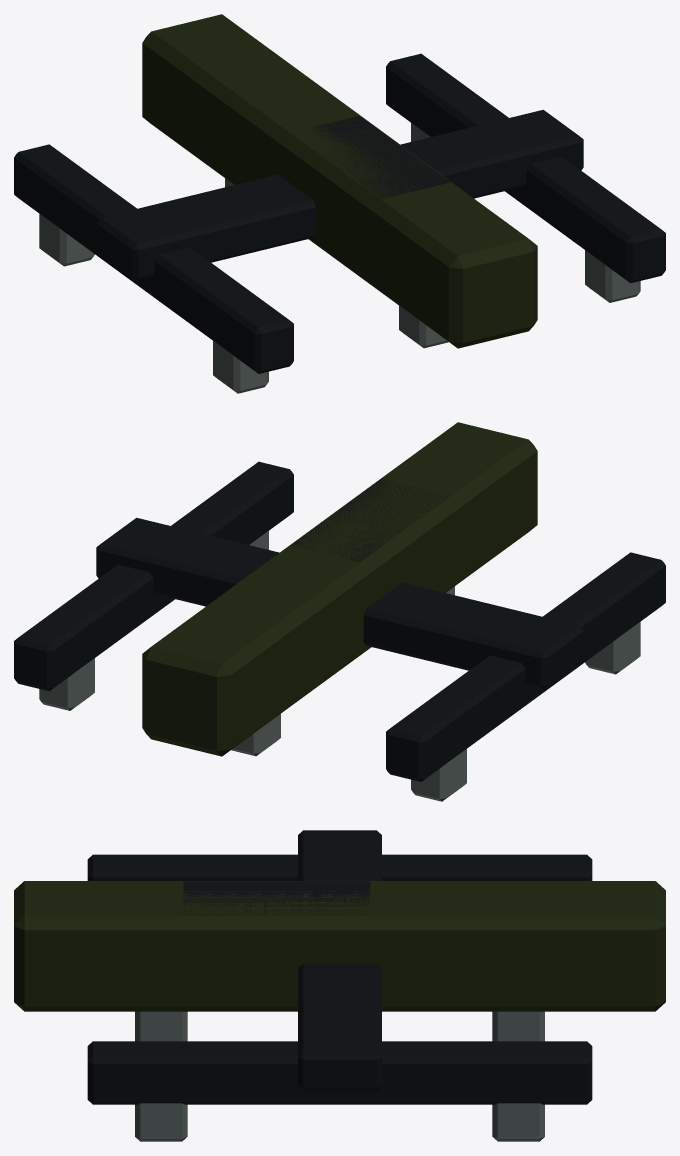
File: BombRackTriple.obj
3 views of the same model, one above another, from view 1: azimuth 30°, elevation 25°; view 2: azimuth 150°, elevation 25°; view 3: azimuth 270°, elevation 25° (orthographic). The views are drawn at different scales.
Visible parts, largest first — view 1: Rack_spine, Release_cross_arm, Release_station_longitudinal_rail, Release_station_longitudinal_rail.002, Mount_lug, Suspension_hook, Suspension_hook.004, Suspension_hook.001, Suspension_hook.002; view 2: Rack_spine, Release_cross_arm, Release_station_longitudinal_rail, Release_station_longitudinal_rail.002, Mount_lug, Suspension_hook.001, Suspension_hook.005, Suspension_hook, Suspension_hook.003; view 3: Rack_spine, Release_station_longitudinal_rail.002, Release_cross_arm, Release_station_longitudinal_rail, Mount_lug, Suspension_hook.004, Suspension_hook.005, Suspension_hook.002, Suspension_hook.003.
Boxes of the visible parts, x1=… form: Rack_spine: x1=142, y1=14, x2=537, y2=348; Release_cross_arm: x1=96, y1=109, x2=583, y2=280; Release_station_longitudinal_rail: x1=14, y1=144, x2=293, y2=373; Release_station_longitudinal_rail.002: x1=386, y1=53, x2=665, y2=283; Mount_lug: x1=303, y1=116, x2=450, y2=198; Suspension_hook: x1=213, y1=341, x2=268, y2=393; Suspension_hook.004: x1=585, y1=250, x2=640, y2=302; Suspension_hook.001: x1=39, y1=213, x2=94, y2=266; Suspension_hook.002: x1=399, y1=306, x2=448, y2=348; Rack_spine: x1=142, y1=422, x2=537, y2=756; Release_cross_arm: x1=96, y1=517, x2=583, y2=688; Release_station_longitudinal_rail: x1=386, y1=552, x2=665, y2=781; Release_station_longitudinal_rail.002: x1=14, y1=461, x2=293, y2=691; Mount_lug: x1=292, y1=479, x2=449, y2=562; Suspension_hook.001: x1=411, y1=749, x2=466, y2=801; Suspension_hook.005: x1=39, y1=658, x2=94, y2=710; Suspension_hook: x1=585, y1=621, x2=640, y2=674; Suspension_hook.003: x1=231, y1=714, x2=280, y2=756; Rack_spine: x1=14, y1=881, x2=665, y2=1011; Release_station_longitudinal_rail.002: x1=87, y1=1041, x2=592, y2=1104; Release_cross_arm: x1=298, y1=830, x2=381, y2=1090; Release_station_longitudinal_rail: x1=87, y1=854, x2=592, y2=880; Mount_lug: x1=183, y1=881, x2=370, y2=915; Suspension_hook.004: x1=135, y1=1103, x2=187, y2=1141; Suspension_hook.005: x1=492, y1=1103, x2=544, y2=1141; Suspension_hook.002: x1=135, y1=1011, x2=187, y2=1041; Suspension_hook.003: x1=492, y1=1011, x2=544, y2=1041.
Size of the model in its own units: 1.02 by 0.3 by 1.24.
